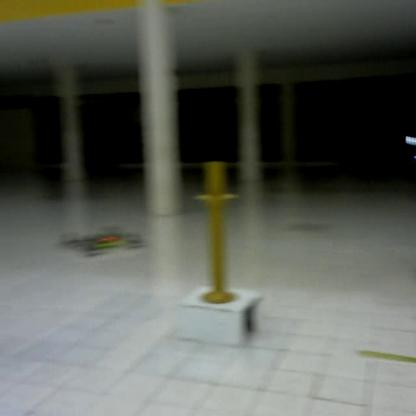pole: (184, 154, 247, 321)
